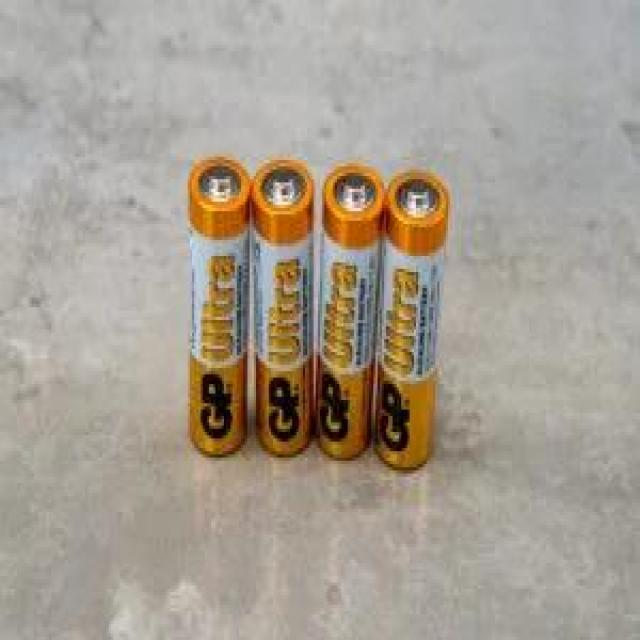battery: (374, 170, 452, 478), (316, 163, 386, 463), (254, 157, 319, 460), (188, 157, 250, 459)
